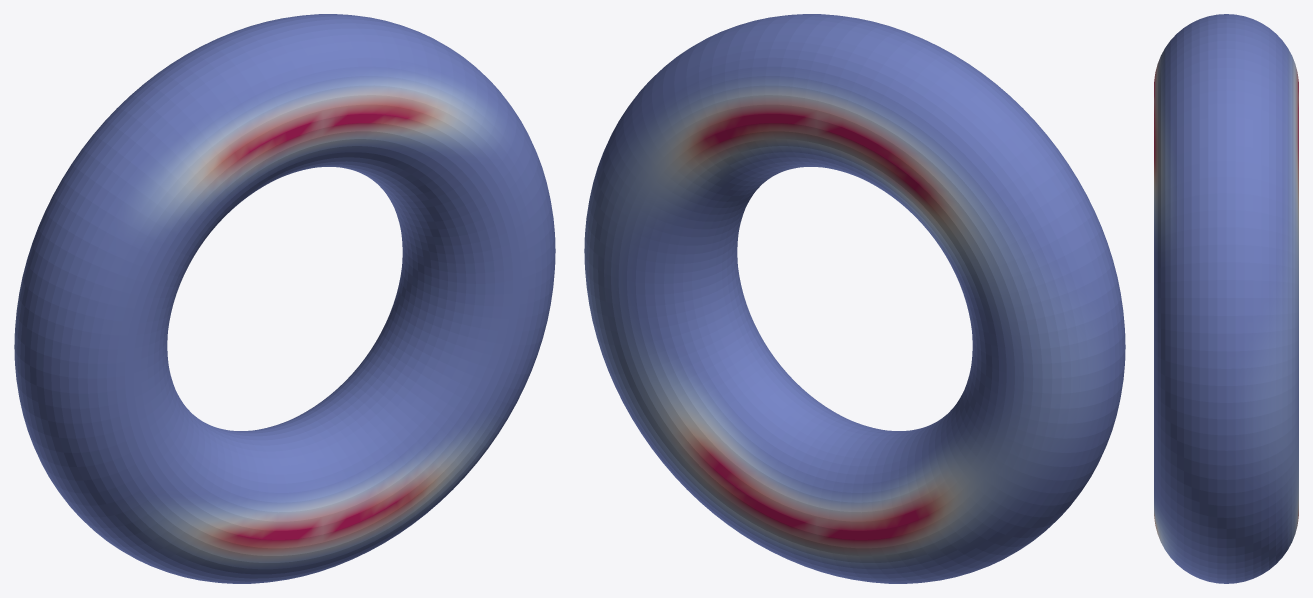
3 renders of one model, left to right at view 1: azimuth 30°, elevation 25°; view 2: azimuth 150°, elevation 25°; view 3: azimuth 270°, elevation 25°, orthographic. The views are drawn at different scales.
Visible parts, largest first — view 1: world; view 2: world; view 3: world.
Boxes of the visible parts, x1,y1,x2,y2 form: world: (14,14,555,583); world: (584,14,1125,583); world: (1154,14,1298,583).
Size of the model in its own units: 15.2 by 15.2 by 3.86.
